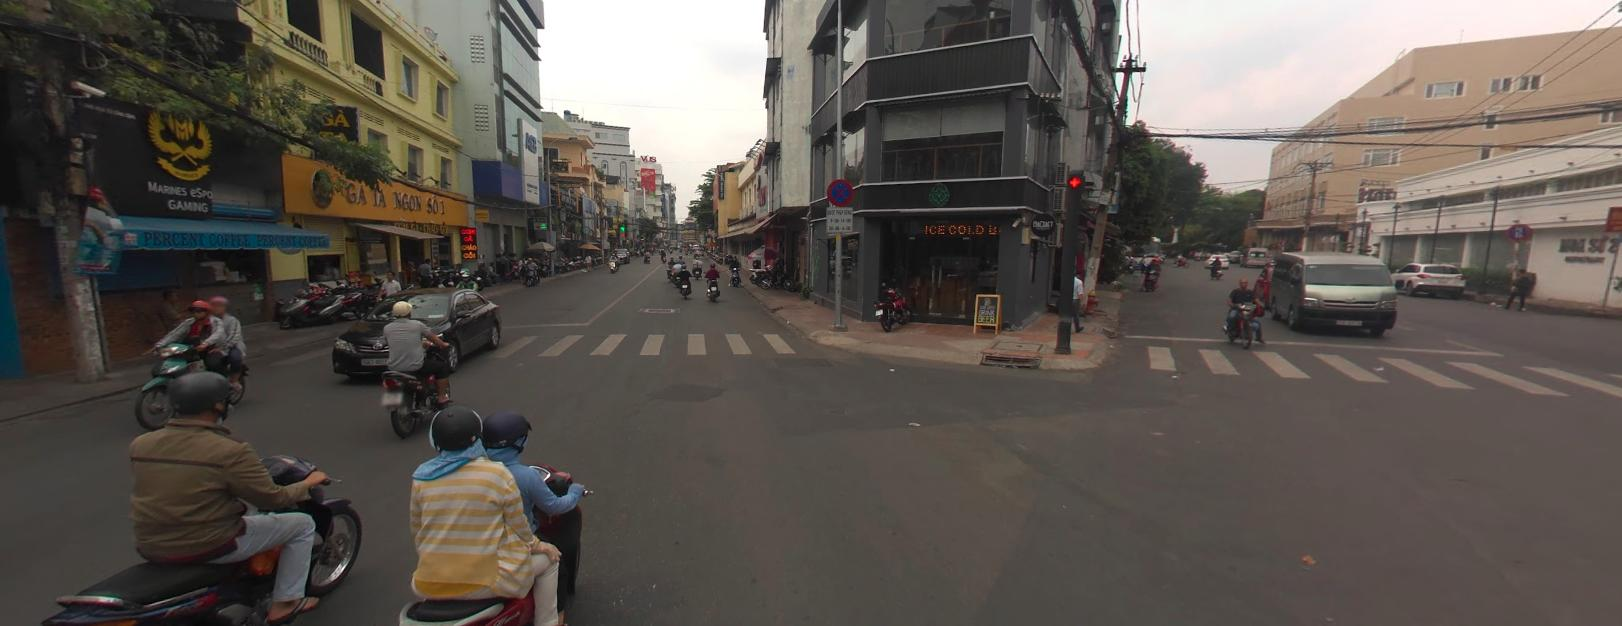Cam dung va do: (827, 177, 852, 205), (1506, 222, 1529, 241)
